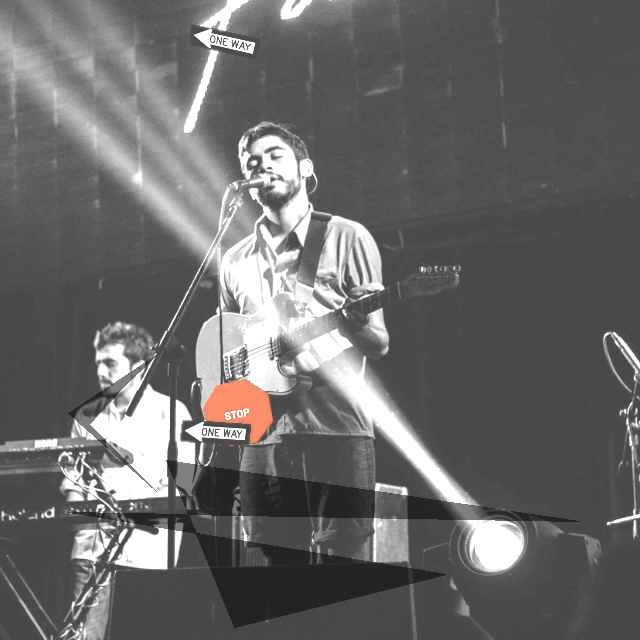ONE_WAY_ left: (189, 23, 261, 60), (179, 419, 251, 446)
STOP: (202, 378, 274, 447)
